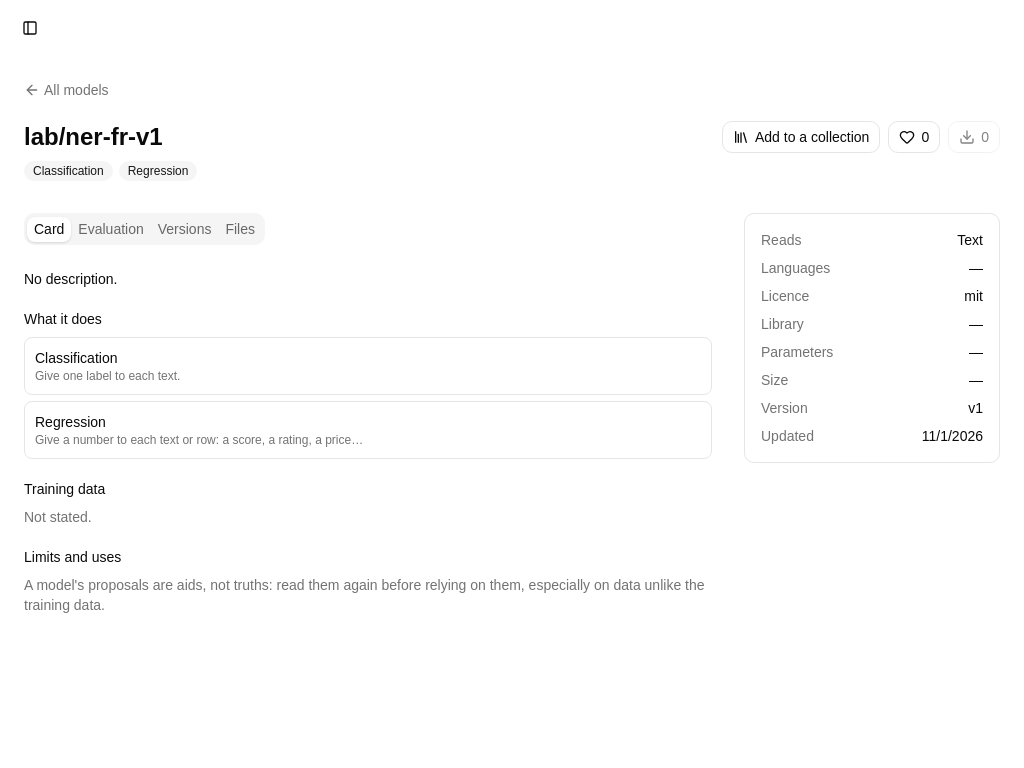
says so when a model has not been evaluated
Click the tab "Evaluation" at (111, 229), box [71, 216, 151, 242]
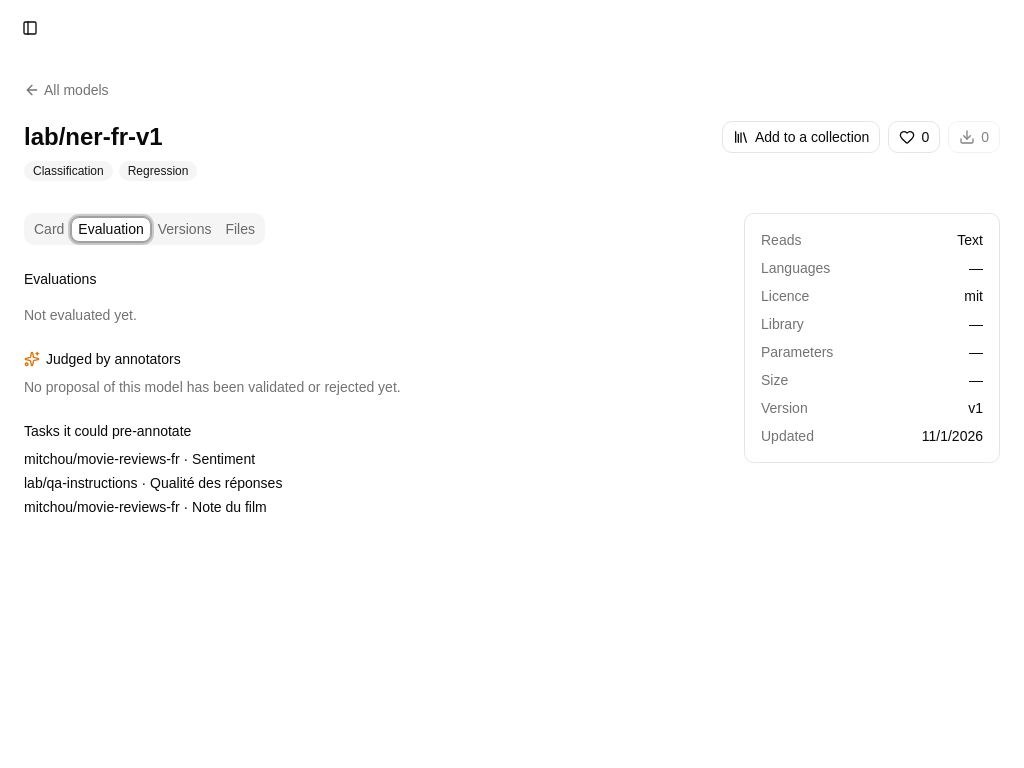
Expected: the text "Not evaluated yet." is shown, [24, 307, 137, 323]
